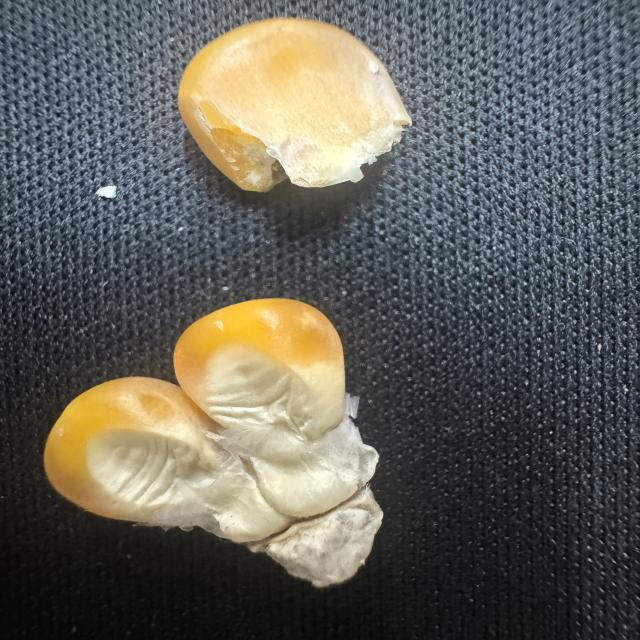Bad-Seed: (39, 288, 402, 592), (157, 10, 411, 214)
